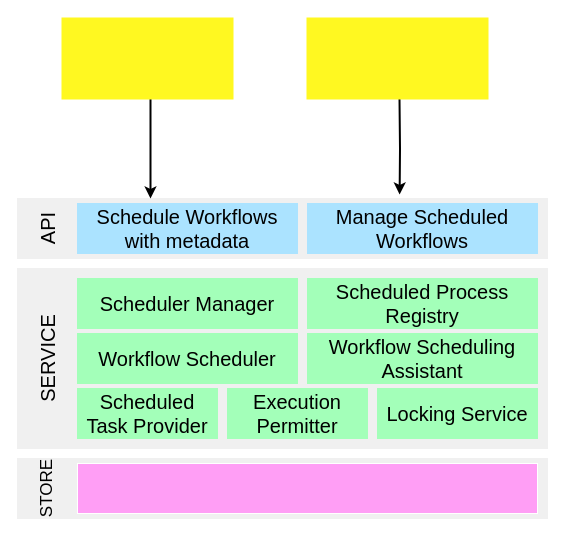
This 565x536 diagram has some shape labels left out. The box of each missing label's shape, as (x1, y1, x2, y2) in pixels:
Define Scheduling Definitions: (61, 17, 233, 99)
Manage Running Schedulers: (306, 17, 488, 99)
MYSQL (or any other store can be implemented): (76, 462, 538, 514)
